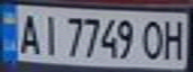4: (100, 15, 118, 60)
7: (60, 12, 84, 57), (78, 15, 100, 58)
9: (115, 16, 139, 60)
A: (12, 9, 42, 55)
H: (157, 16, 190, 61)
I: (36, 10, 63, 56)
O: (139, 17, 169, 61)
